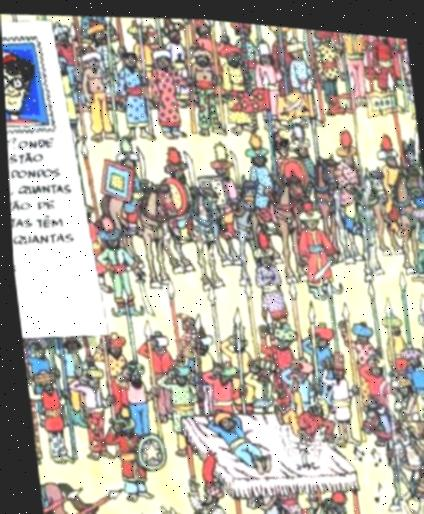waldo: (2, 47, 39, 118), (269, 126, 290, 153)
